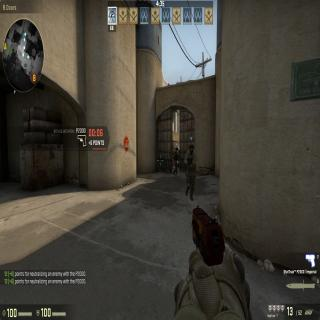CT-Body: (184, 142, 196, 198), (172, 146, 178, 172)
CT-Head: (187, 142, 194, 154), (174, 146, 178, 150)
